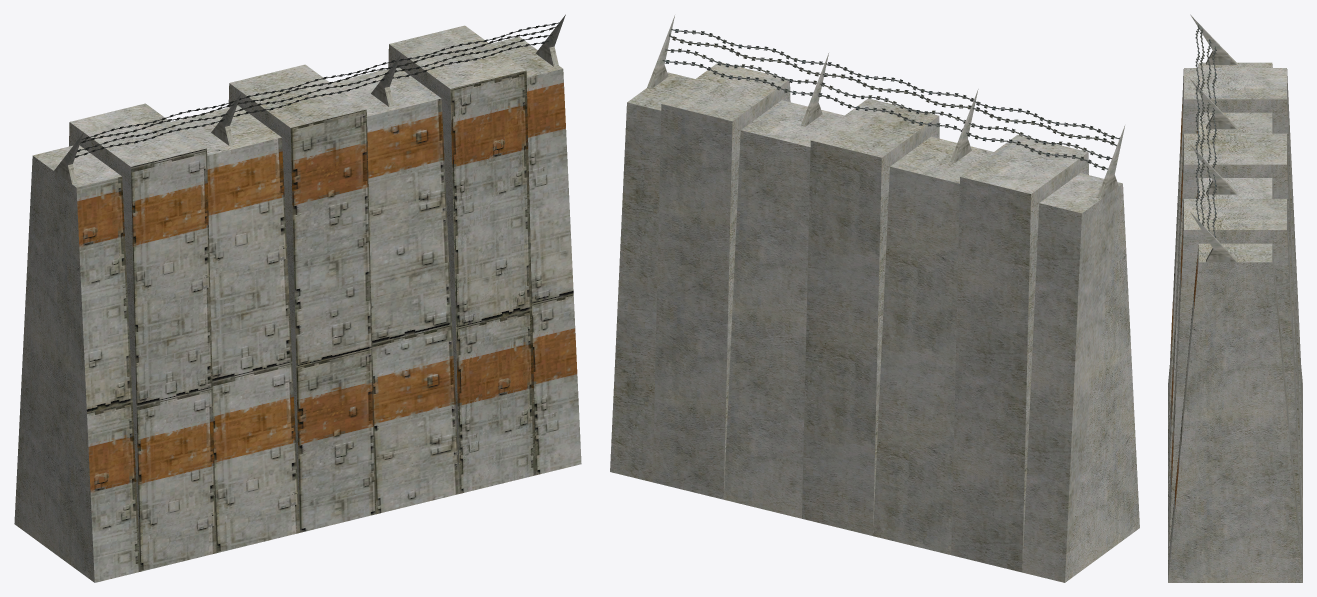
Rendered from mun_all_military_wall_strong_rebl_s01_l1.fbx.
The picture shows the model from 3 angles, left to right: view 1: azimuth 30°, elevation 25°; view 2: azimuth 150°, elevation 25°; view 3: azimuth 270°, elevation 25°; orthographic projection. The views are drawn at different scales.
Visible parts, largest first — view 1: mesh_node; view 2: mesh_node; view 3: mesh_node.
Part boxes in pixels (x1=…): mesh_node: x1=14, y1=14, x2=581, y2=582; mesh_node: x1=610, y1=15, x2=1139, y2=582; mesh_node: x1=1168, y1=14, x2=1302, y2=582.
Size of the model in its own units: 8 by 6.93 by 2.29.
